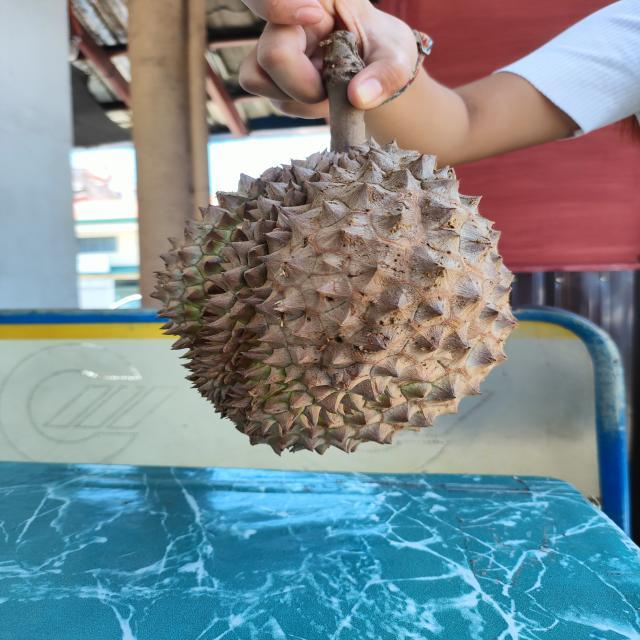mature: (151, 136, 525, 452)
